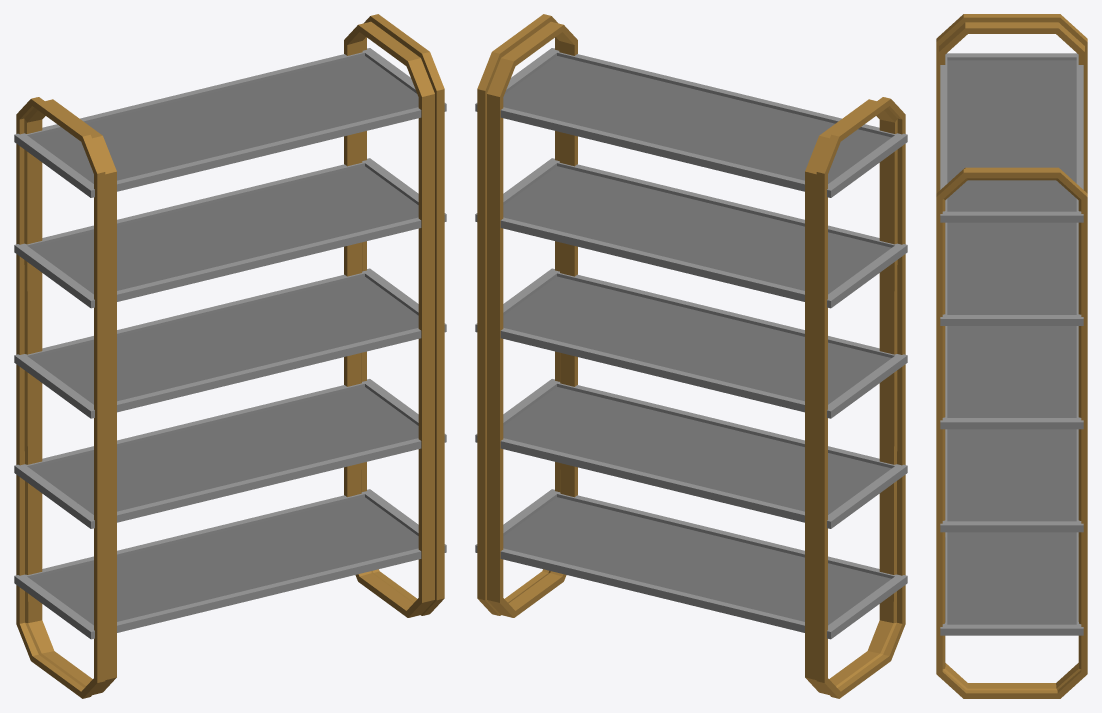
File: Props_Shelf_Tall.glb
3 renders of one model, left to right at view 1: azimuth 30°, elevation 25°; view 2: azimuth 150°, elevation 25°; view 3: azimuth 270°, elevation 25°, orthographic. The views are drawn at different scales.
Parts seen in each view (by area): view 1: Props_Shelf_Tall; view 2: Props_Shelf_Tall; view 3: Props_Shelf_Tall.
Boxes of the visible parts, bbox=[...] form: Props_Shelf_Tall: bbox=[14, 14, 446, 698]; Props_Shelf_Tall: bbox=[475, 14, 907, 698]; Props_Shelf_Tall: bbox=[936, 14, 1087, 698].
Size of the model in its own units: 2.06 by 3.11 by 0.8108.
